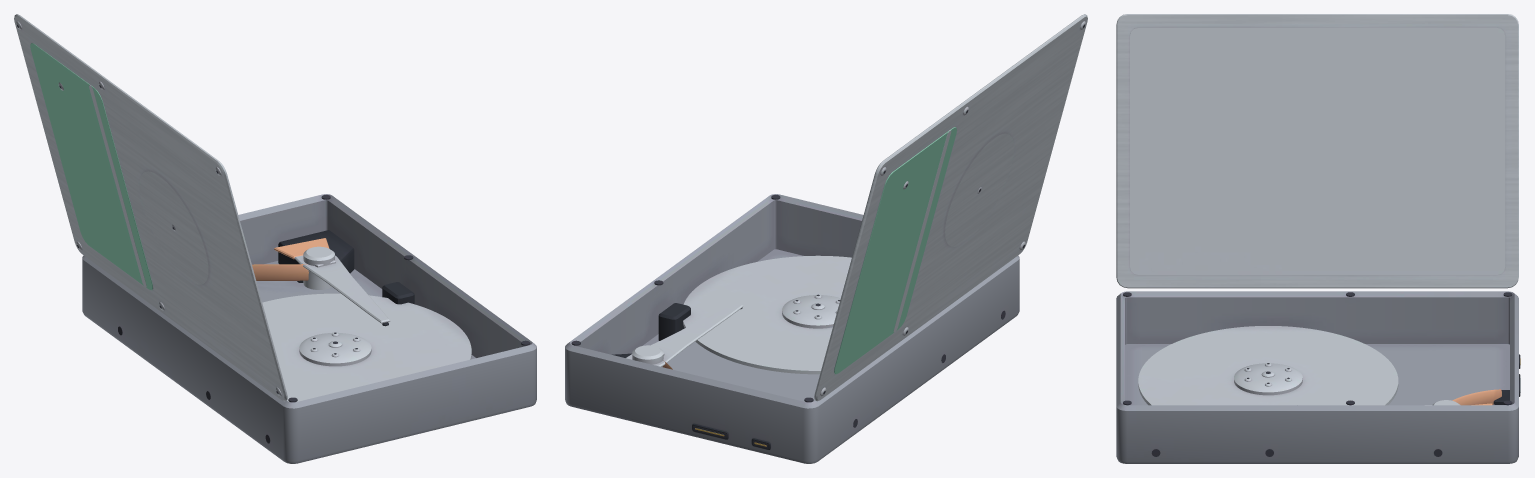
The model's file is hard-drive.glb.
The picture shows the model from 3 angles, left to right: view 1: azimuth 30°, elevation 25°; view 2: azimuth 150°, elevation 25°; view 3: azimuth 270°, elevation 25°; orthographic projection. The views are drawn at different scales.
Parts seen in each view (by area): view 1: hard-drive_body, hard-drive_cover, hard-drive_arm; view 2: hard-drive_body, hard-drive_cover, hard-drive_arm; view 3: hard-drive_cover, hard-drive_body.
Boxes of the visible parts, x1,y1,x2,y2 form: hard-drive_body: (82, 194, 536, 463); hard-drive_cover: (14, 14, 287, 401); hard-drive_arm: (274, 238, 390, 326); hard-drive_body: (565, 194, 1019, 463); hard-drive_cover: (814, 14, 1087, 401); hard-drive_arm: (626, 303, 743, 366); hard-drive_cover: (1116, 14, 1518, 288); hard-drive_body: (1116, 291, 1520, 463).
Bounding box in the file's own units: 0.1284 × 0.1237 × 0.1476.
Materials: 3 (3 with a texture image).
